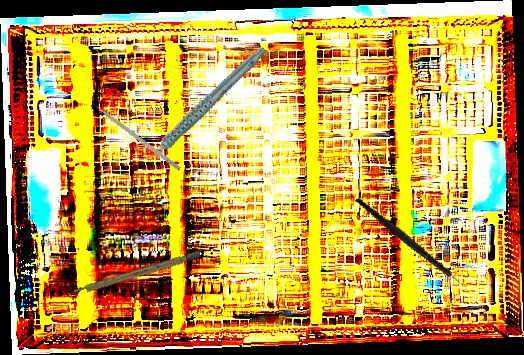Chopper: (354, 169, 475, 315), (88, 95, 185, 171)
Handpiece: (119, 44, 285, 166)
Scalpel Handle: (68, 250, 202, 298)
